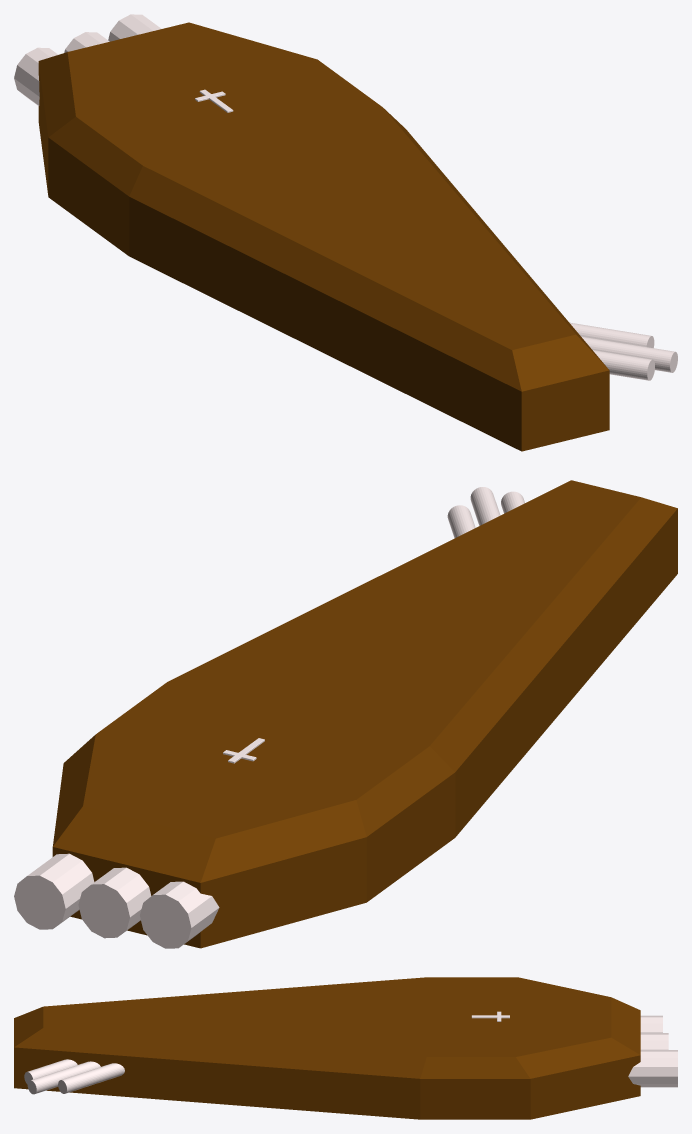
Rendered from rocket_coffin.glb.
3 renders of one model, top to bottom at view 1: azimuth 30°, elevation 25°; view 2: azimuth 150°, elevation 25°; view 3: azimuth 270°, elevation 25°, orthographic. The views are drawn at different scales.
Parts seen in each view (by area): view 1: Cube, Cylinder.001, Cylinder.005, Cylinder, Cylinder.002, Cylinder.004; view 2: Cube, Cylinder.004, Cylinder.005, Cylinder.006, Cylinder.001; view 3: Cube, Cylinder.004, Cylinder.002, Cylinder.001, Cylinder, Cylinder.006, Cylinder.005.
Part boxes in pixels (box(x1,y1,x2,y2)): Cube: box(38, 22, 609, 451); Cylinder.001: box(581, 336, 677, 372); Cylinder.005: box(14, 47, 58, 105); Cylinder: box(593, 350, 654, 380); Cylinder.002: box(570, 322, 654, 347); Cylinder.004: box(108, 14, 161, 41); Cube: box(52, 480, 677, 948); Cylinder.004: box(14, 853, 94, 929); Cylinder.005: box(140, 881, 219, 948); Cylinder.006: box(78, 867, 151, 938); Cylinder.001: box(470, 487, 500, 525); Cube: box(14, 977, 640, 1119); Cylinder.004: box(628, 1050, 677, 1087); Cylinder.002: box(58, 1063, 124, 1093); Cylinder.001: box(27, 1061, 100, 1094); Cylinder: box(24, 1059, 77, 1084); Cylinder.006: box(640, 1033, 668, 1049); Cylinder.005: box(640, 1015, 662, 1032).
Size of the model in its own units: 1.17 by 0.3414 by 3.57.
